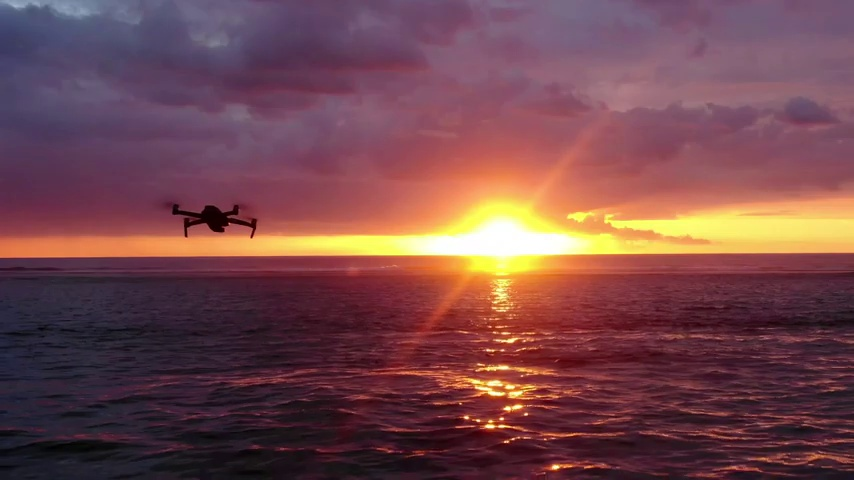drone: (169, 201, 257, 240)
